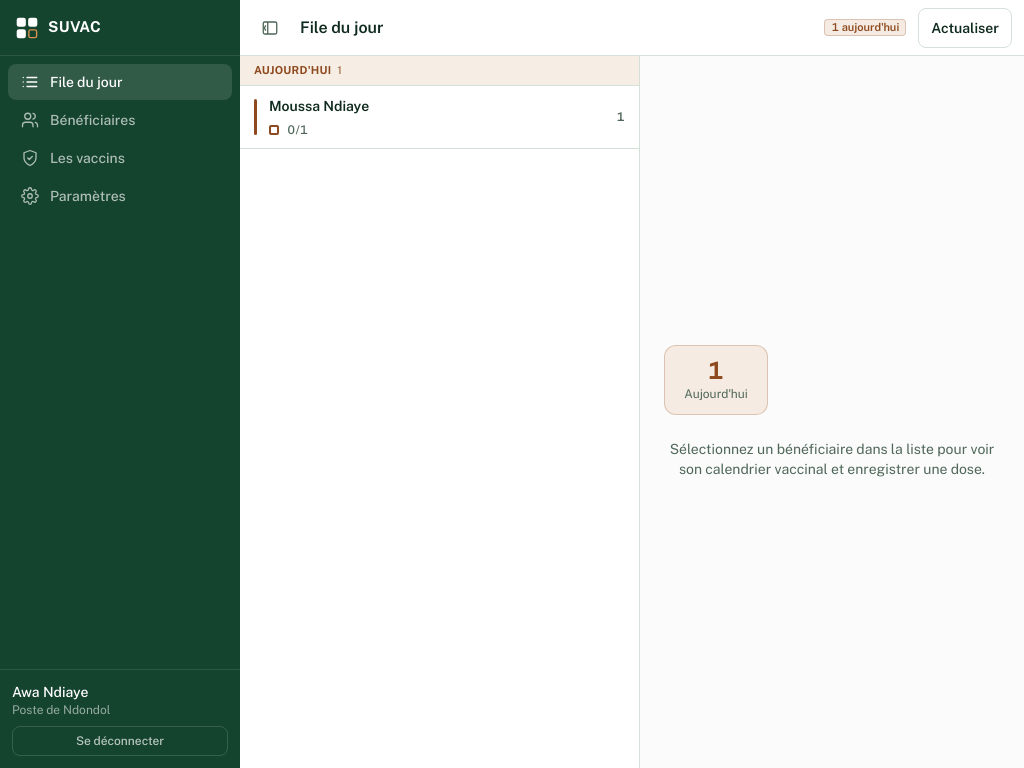
it: FileDuJour › ouvre la fiche au clic sur un bénéficiaire
The image size is (1024, 768).
Click the text "Moussa Ndiaye" at {"x": 319, "y": 106}, box [269, 96, 369, 116]
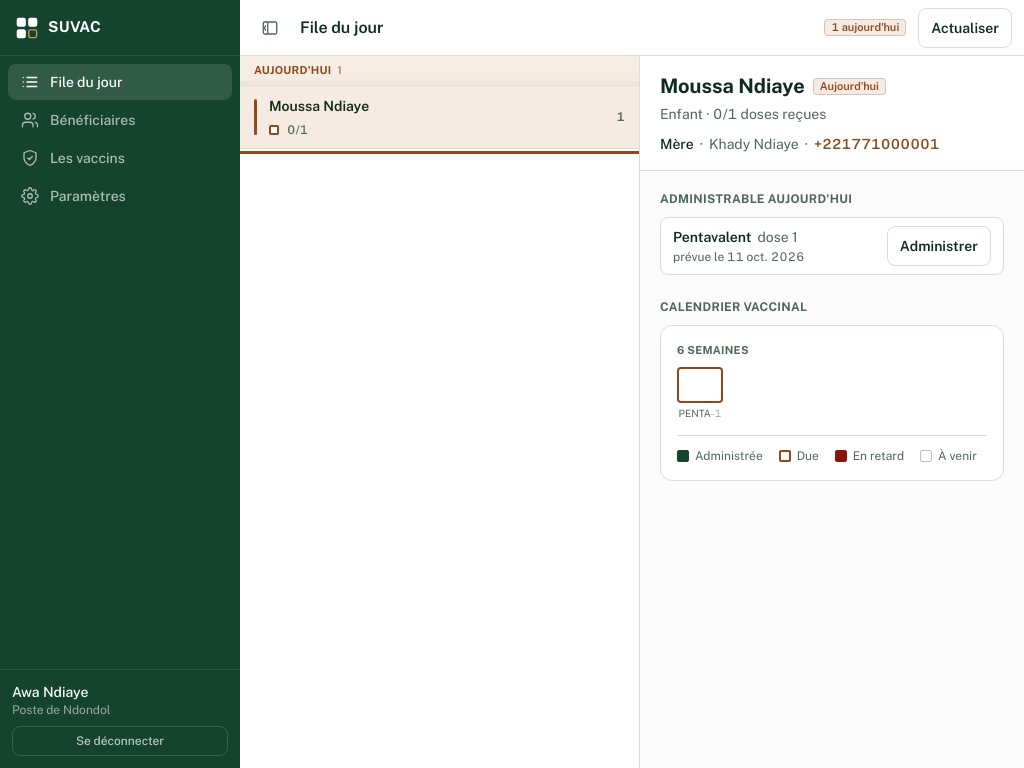
Expected: the text "Khady Ndiaye" is shown, [709, 134, 799, 154]
Expected: the heading "Administrable aujourd'hui" is shown, [660, 192, 852, 206]
